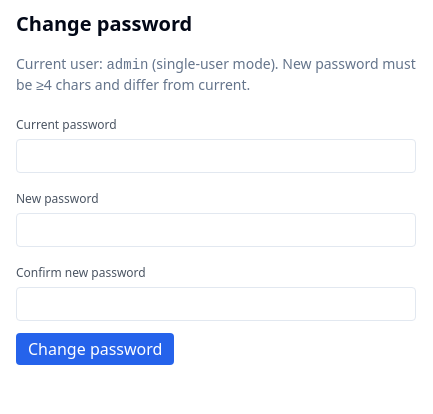
Test: AdminChangePasswordPage › rejects when new != confirm
Type "admin" into the password field with test id "cp-current".
click(216, 156); type("admin")  # box 16,139 -> 416,173
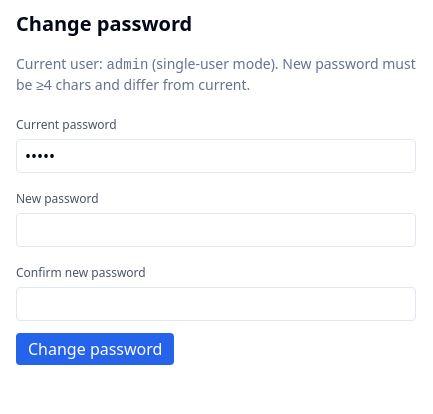
Type "newpass1" into the password field with test id "cp-new".
click(216, 230); type("newpass1")  # box 16,213 -> 416,247
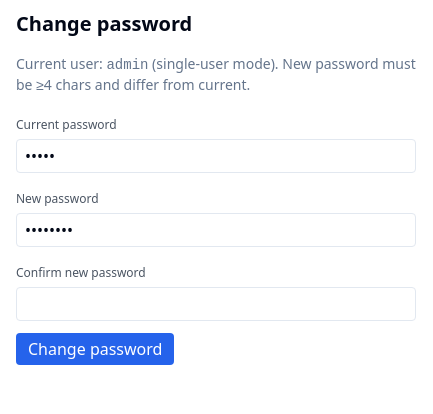
Type "newpass2" into the password field with test id "cp-confirm".
click(216, 304); type("newpass2")  # box 16,287 -> 416,321
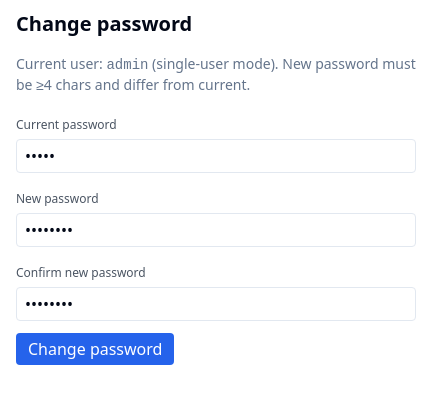
Click the button with test id "cp-submit".
click(95, 349)  # box 16,333 -> 174,365
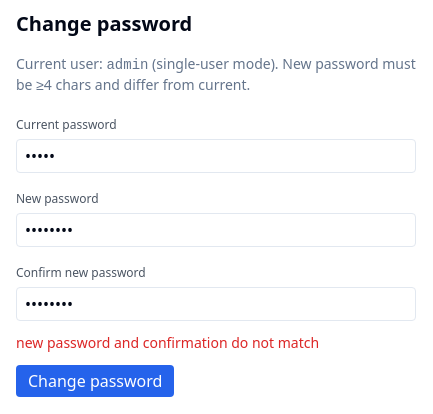
Result: the text with test id "cp-error" shows "match" at 16,333 -> 319,352
